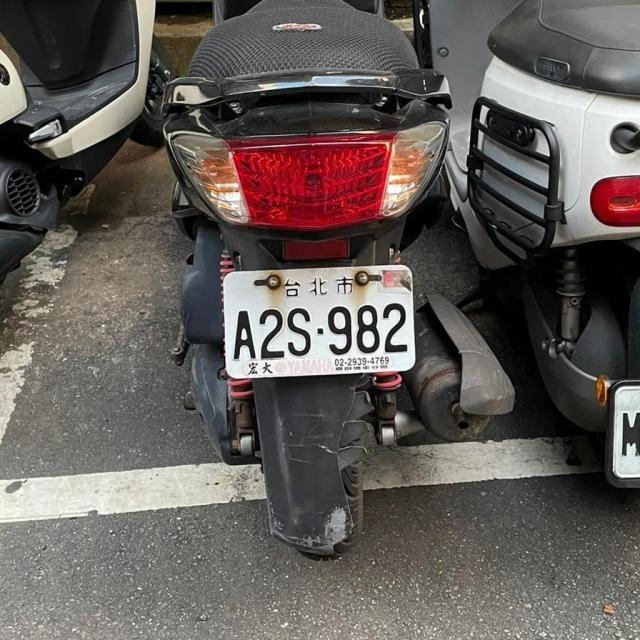W: (220, 262, 419, 382), (600, 373, 640, 492)
